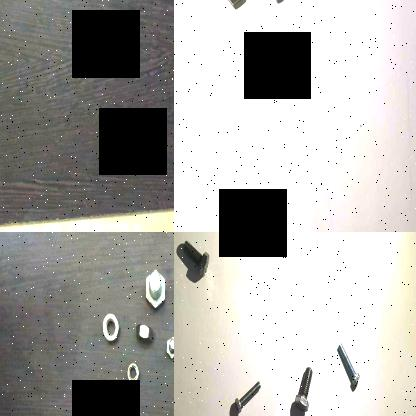Bolts: (180, 236, 214, 278), (142, 270, 172, 314), (334, 339, 360, 389), (291, 362, 314, 416), (230, 378, 262, 416), (164, 331, 174, 359)
NUTS: (100, 308, 118, 346), (134, 322, 154, 348), (124, 358, 140, 387)
